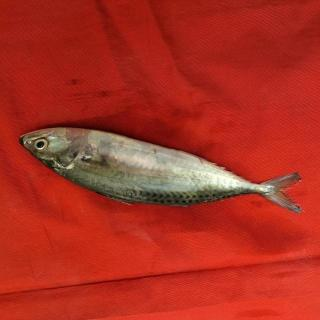Ikan: (10, 97, 312, 235)
